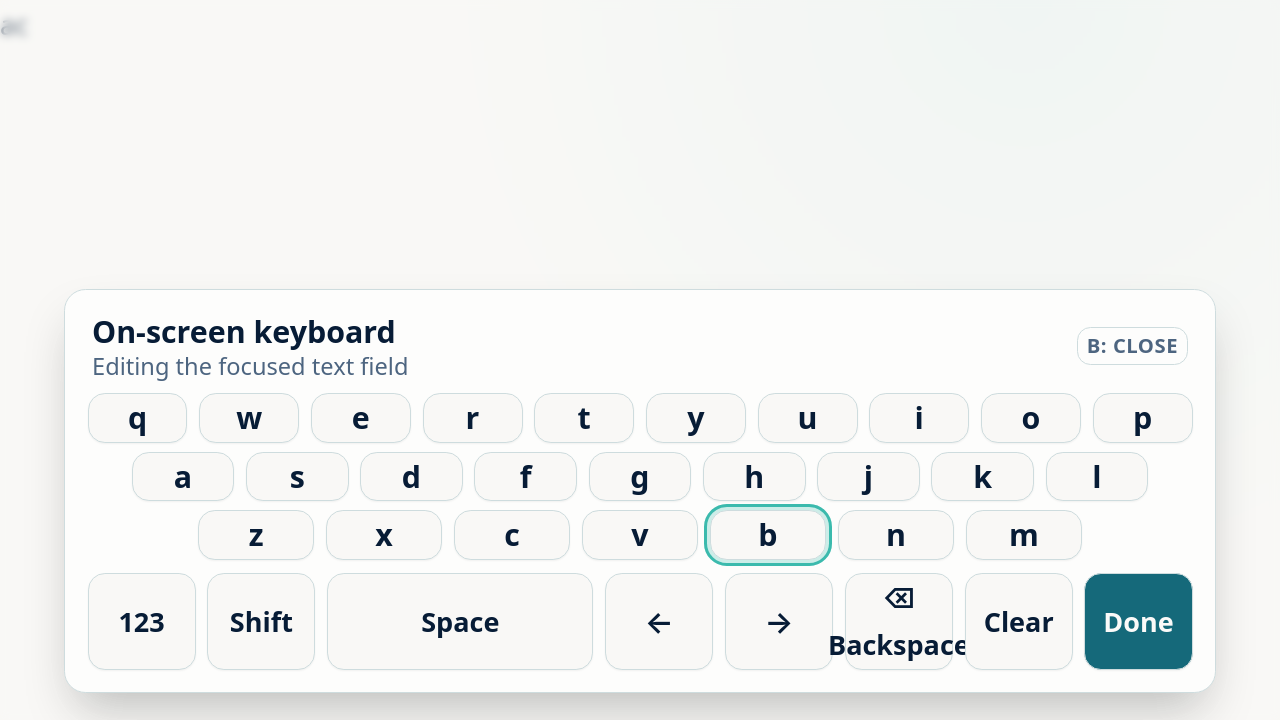
OnScreenKeyboard › opens from an editable field without clicking it and edits the stored field after focus moves
Expected: the dialog "On-screen keyboard" is shown, [64,288,1216,693]
Click the button named "Type b": {"x": 768, "y": 535} [710,510,826,560]
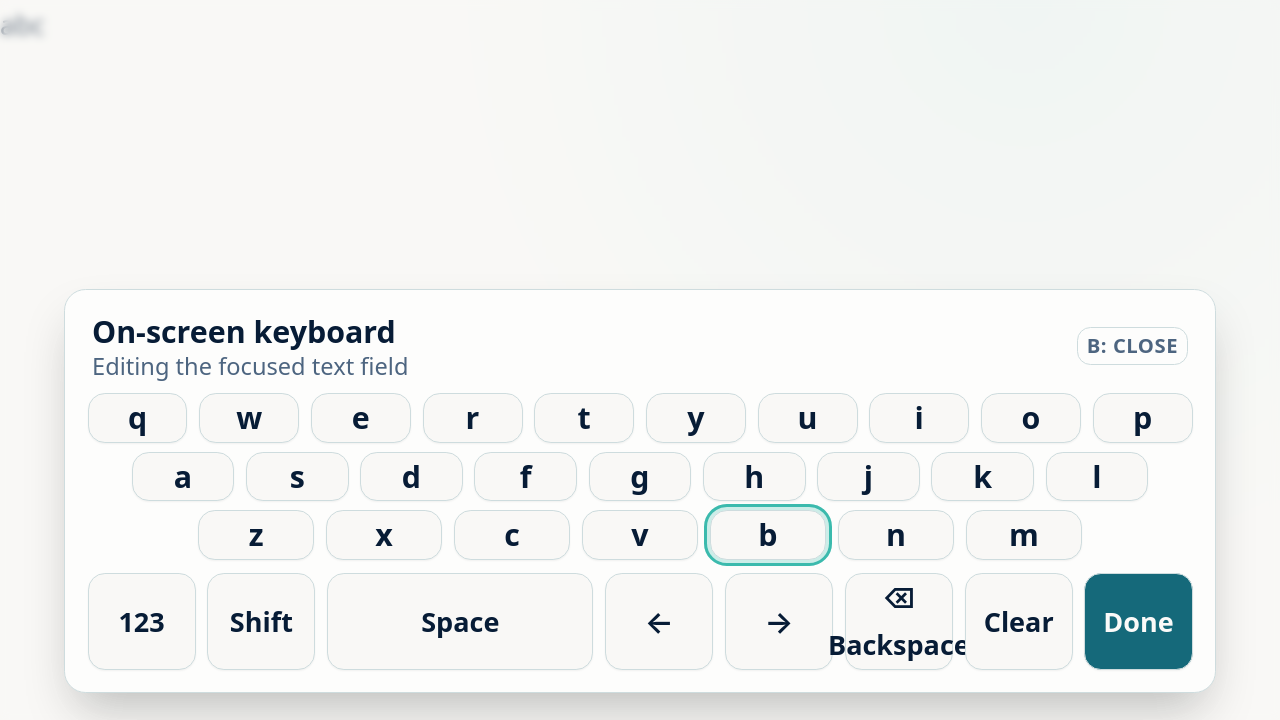
Now the field named "name" holds "abc", box [0,0,396,50]
